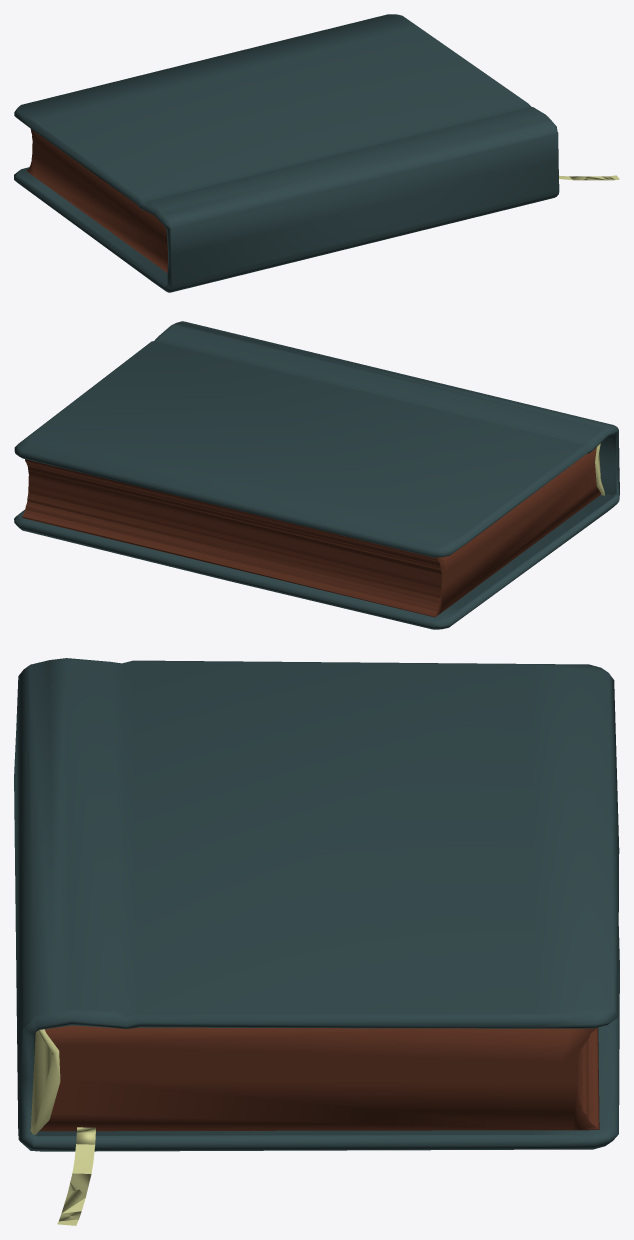
Rendered from BOOK.fbx.
The picture shows the model from 3 angles, top to bottom: view 1: azimuth 30°, elevation 25°; view 2: azimuth 150°, elevation 25°; view 3: azimuth 270°, elevation 25°; orthographic projection. The views are drawn at different scales.
Parts seen in each view (by area): view 1: Book_LOD0; view 2: Book_LOD0; view 3: Book_LOD0.
Boxes of the visible parts, x1=… form: Book_LOD0: x1=14, y1=14, x2=619, y2=292; Book_LOD0: x1=14, y1=321, x2=619, y2=629; Book_LOD0: x1=14, y1=658, x2=619, y2=1225.
Size of what is drawn, in the model's own units: 28.08 by 4.61 by 17.
